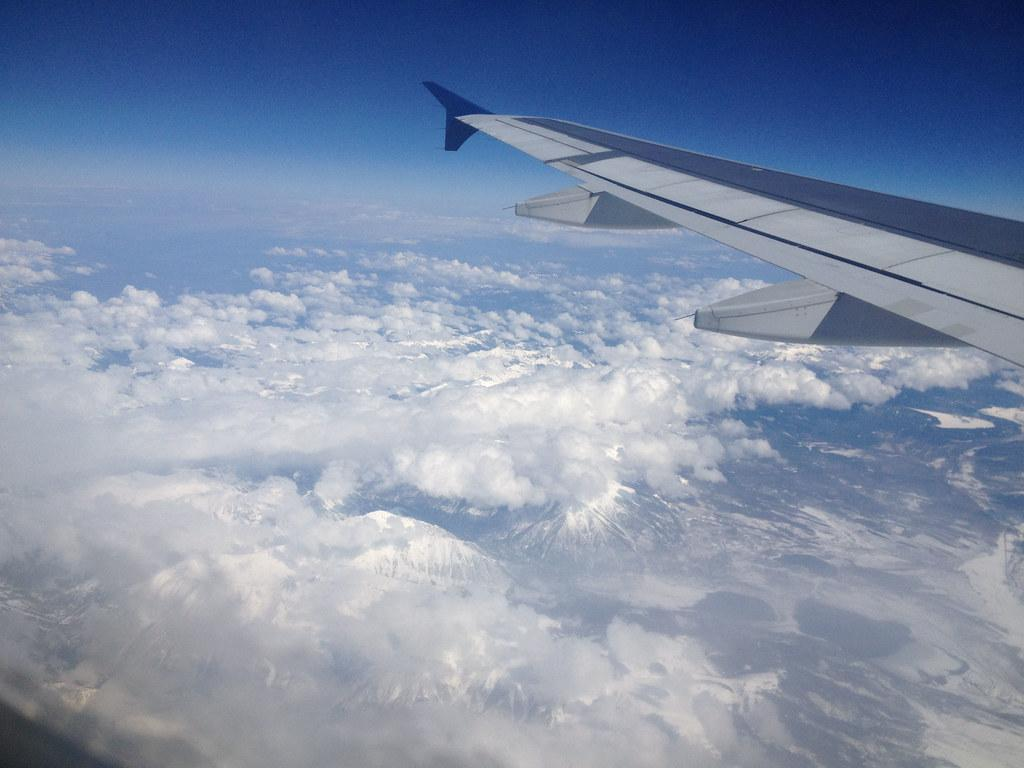plane: (422, 78, 1023, 370)
